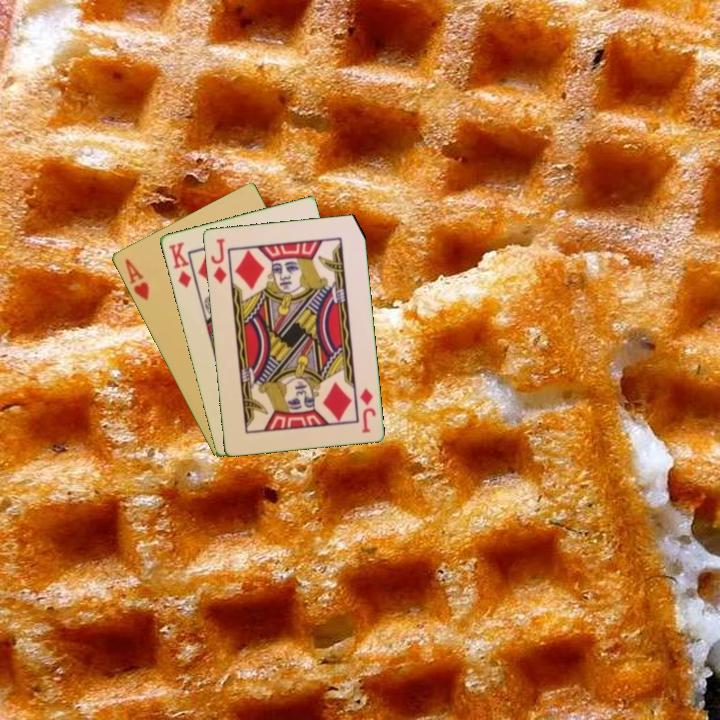Ah: (121, 255, 152, 303)
Jd: (207, 235, 229, 286), (356, 385, 378, 436)
Kd: (164, 238, 194, 290)
